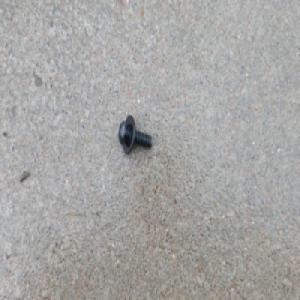BoltWasher: (117, 112, 152, 154)
